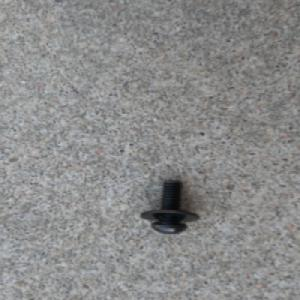BoltWasher: (137, 178, 201, 234)
